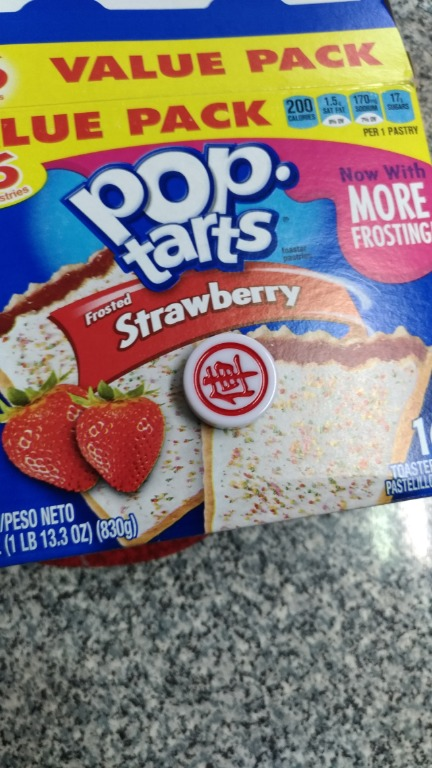r-rook: (169, 322, 290, 444)
